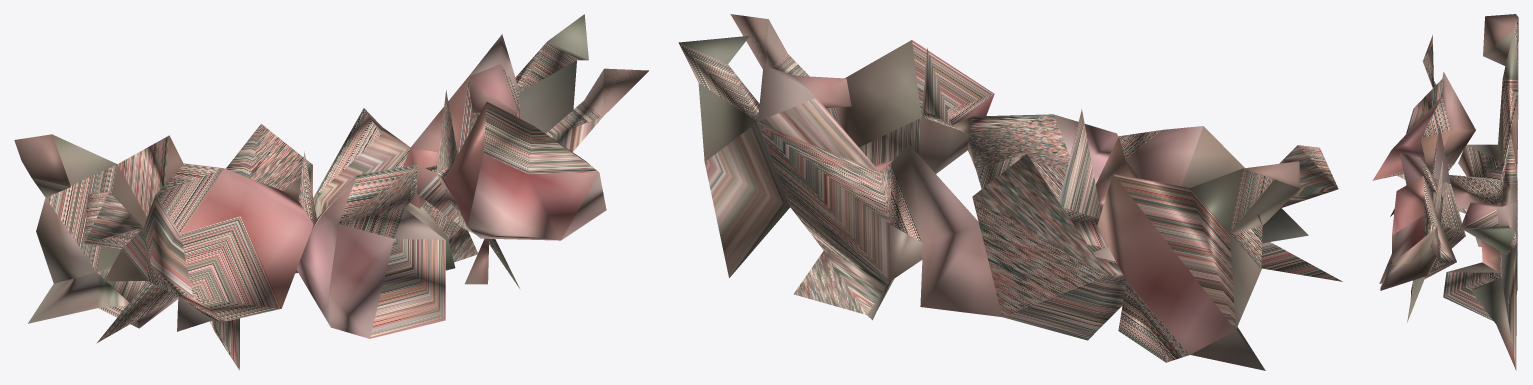
The picture shows the model from 3 angles, left to right: view 1: azimuth 30°, elevation 25°; view 2: azimuth 150°, elevation 25°; view 3: azimuth 270°, elevation 25°; orthographic projection. The views are drawn at different scales.
Parts seen in each view (by area): view 1: Rose-Spray-9-10-Lower; view 2: Rose-Spray-9-10-Lower; view 3: Rose-Spray-9-10-Lower.
Boxes of the visible parts, left/top/right/bottom form: Rose-Spray-9-10-Lower: left=14, top=14, right=648, bottom=370; Rose-Spray-9-10-Lower: left=678, top=14, right=1342, bottom=370; Rose-Spray-9-10-Lower: left=1372, top=14, right=1518, bottom=370.
Size of the model in its own units: 0.2328 by 0.0891 by 0.0679.
Materials: 1 (1 with a texture image).
